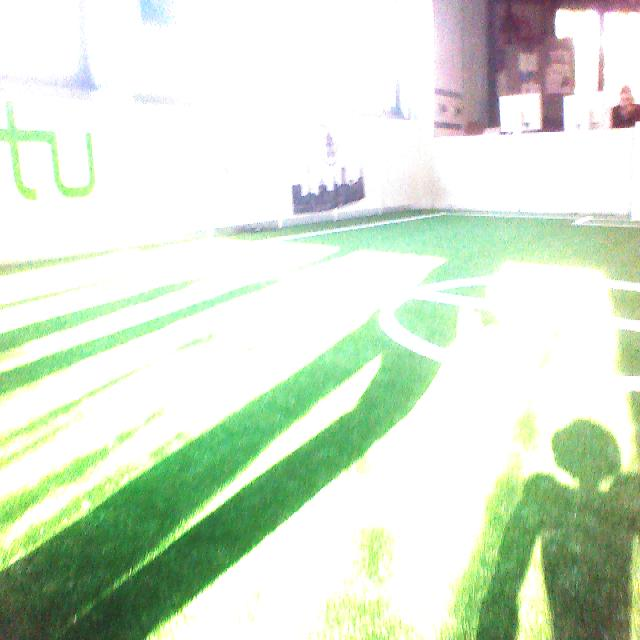goalpost: (629, 120, 639, 220)
